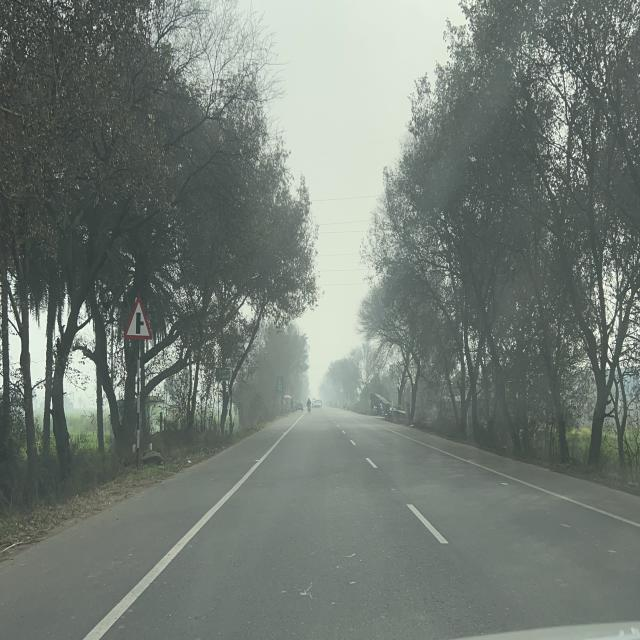SIDE_ROAD_RIGHT: (124, 294, 152, 339)
